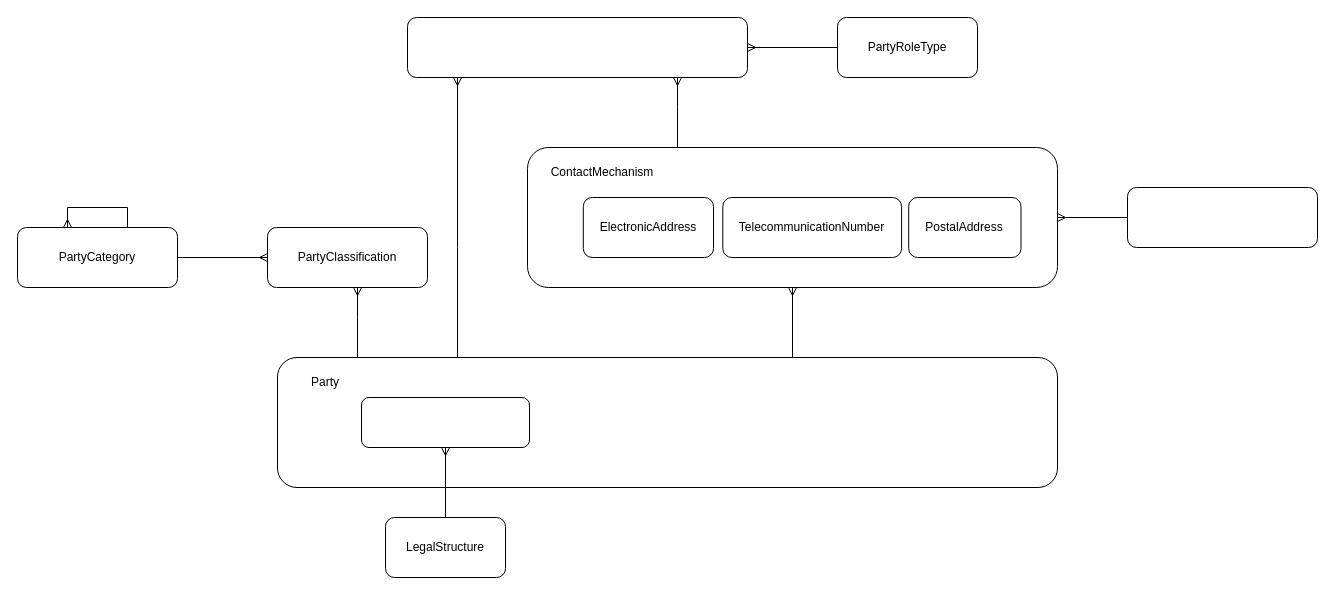
Some shapes in this 1335 by 595 pixel diagram are drawn without their labels. The shapes that lost their labels are listed below. From the top down, each one's centre as x and y in pixels, then its label:
At (x=577, y=47): "PartyContactMechanism".
At (x=1222, y=217): "ContactMechanismType".
At (x=445, y=422): "Enterprise".
